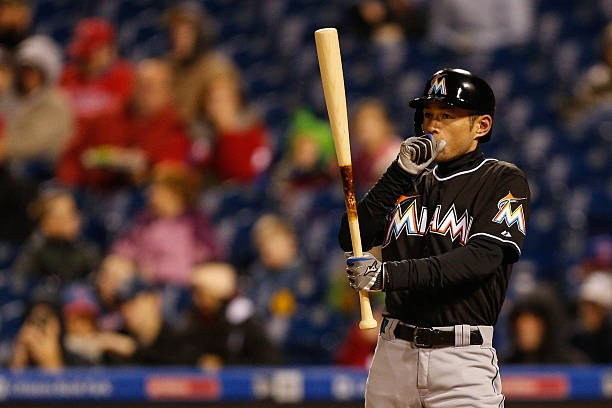bita: (315, 25, 379, 328)
